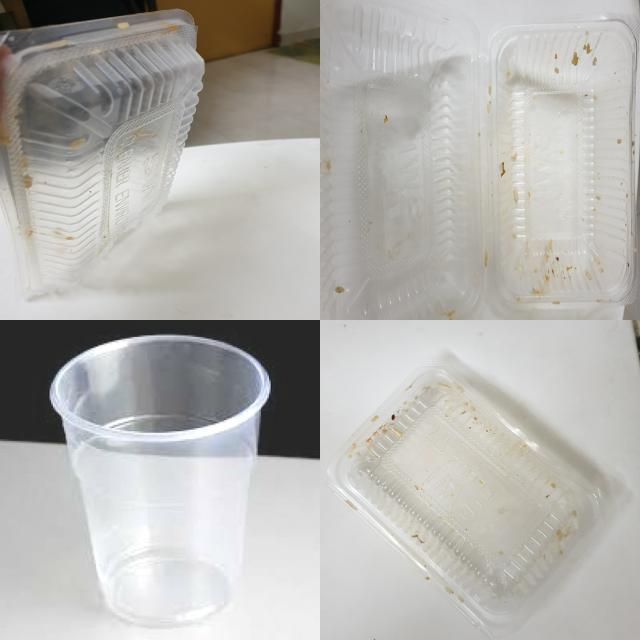Single-Use-Plastic: (328, 356, 609, 638), (50, 336, 270, 626), (0, 11, 204, 298), (321, 0, 486, 319), (490, 21, 636, 304)
